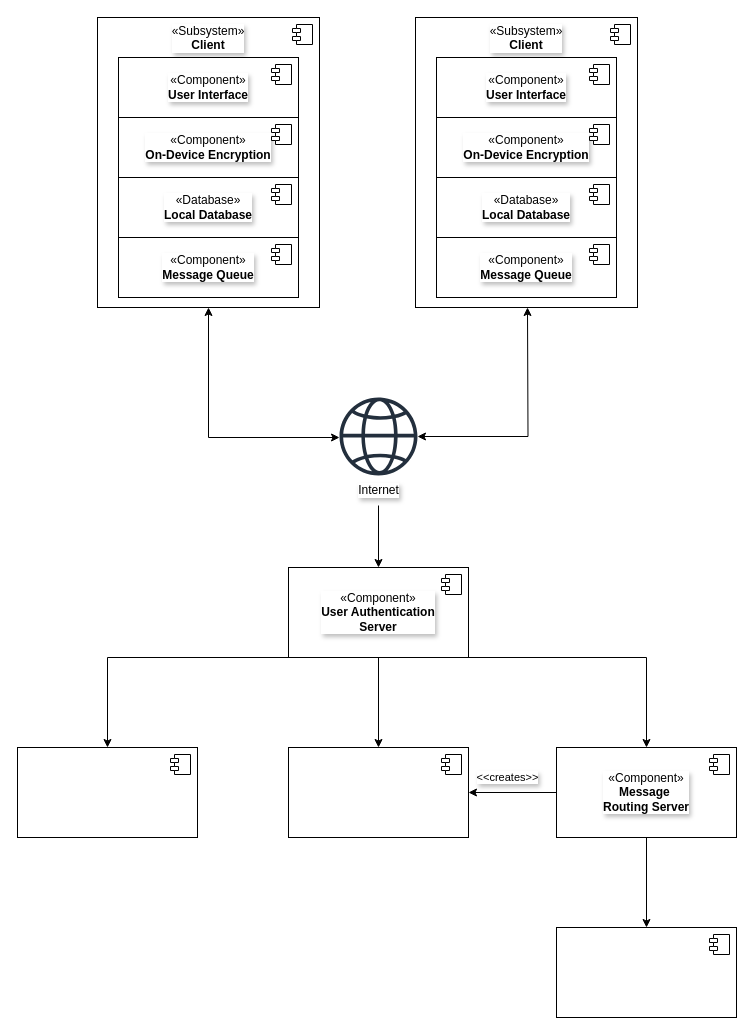
The diagram is 754 pixels wide and 1035 high, and some of its shapes have lost their labels. Here are the shapes that lost their labels. From the top down, the centre of each, then its label:
At (x=107, y=792): "«Component» Key Exchange Server".
At (x=378, y=792): "«Component» Push Notification Service".
At (x=646, y=972): "«Component» Data Storage".
